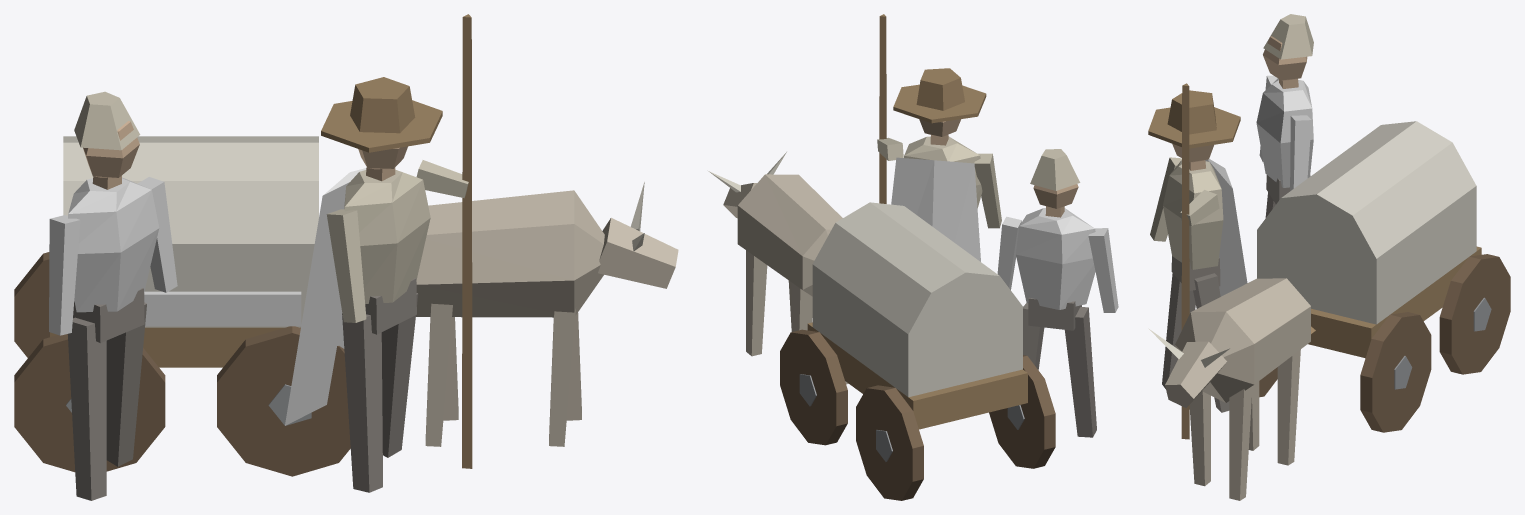
File: settler.glb
3 renders of one model, left to right at view 1: azimuth 30°, elevation 25°; view 2: azimuth 150°, elevation 25°; view 3: azimuth 270°, elevation 25°, orthographic. The views are drawn at different scales.
Parts seen in each view (by area): view 1: LOD0; view 2: LOD0; view 3: LOD0.
Boxes of the visible parts, x1,y1,x2,y2 form: LOD0: (14, 14, 678, 500); LOD0: (708, 14, 1118, 500); LOD0: (1148, 14, 1510, 500).
Size of what is drawn, in the model's own units: 1.5 by 1.15 by 1.05.
